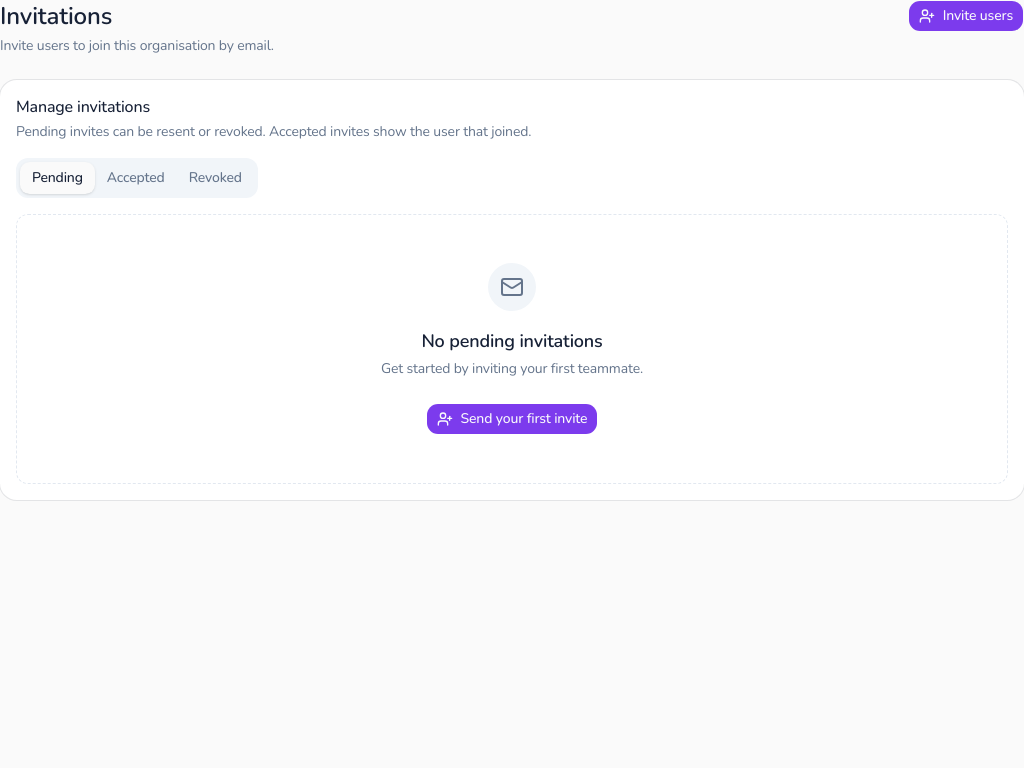
OrgInvitesClient › submit invite form — success: closes modal and refetches list
Expected: the heading "No pending invitations" is shown, [421,327,603,355]
Click the button "Invite users" at point(966, 16), box [908,0,1023,32]
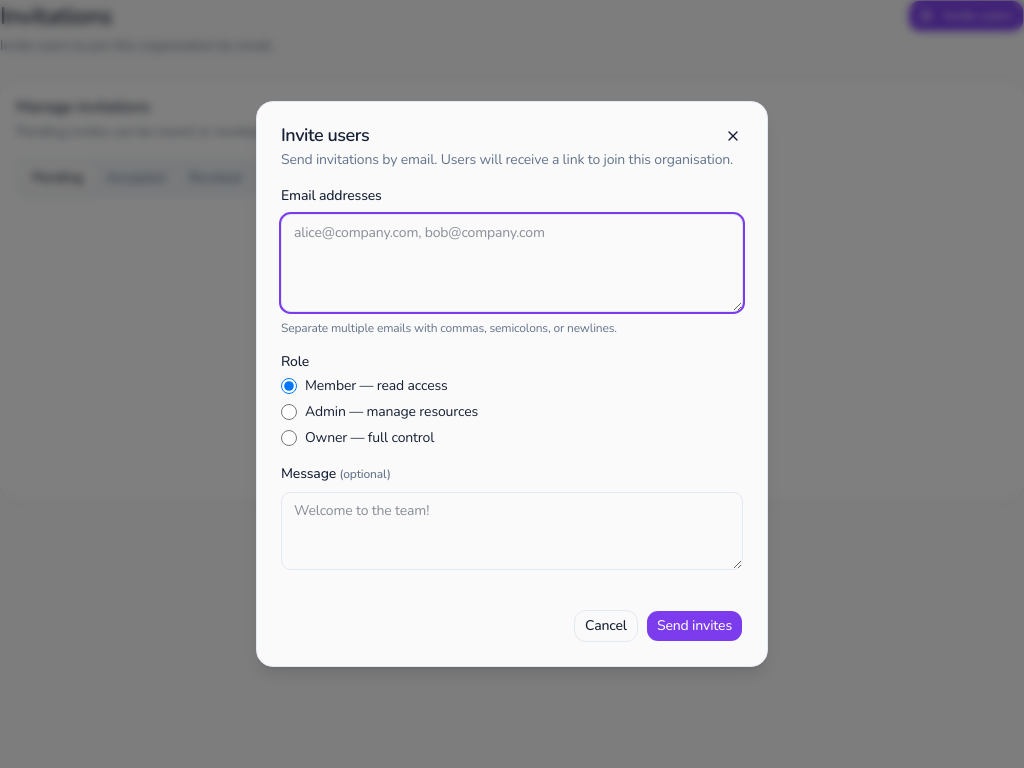
Now the dialog is shown, box [256,101,768,667]
Type "charlie@example.com" into the text box labelled "Email addresses" at point(512, 263), box [281,214,743,312]
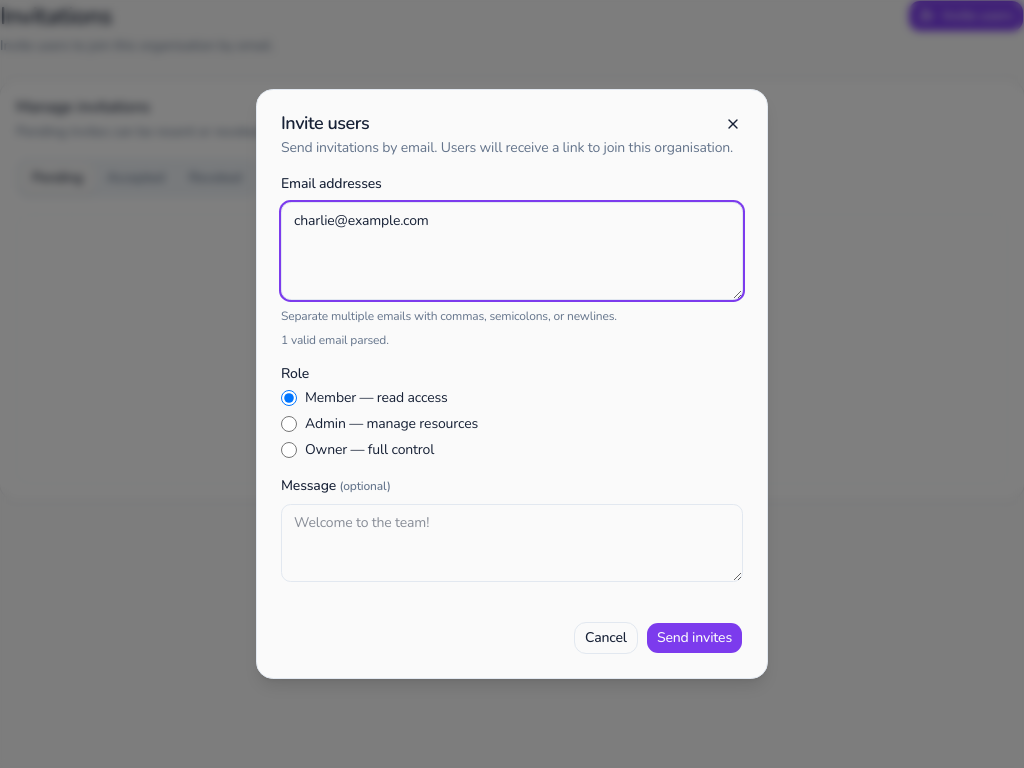
Click the button "Send invites" at point(694, 638), box [646,622,743,654]
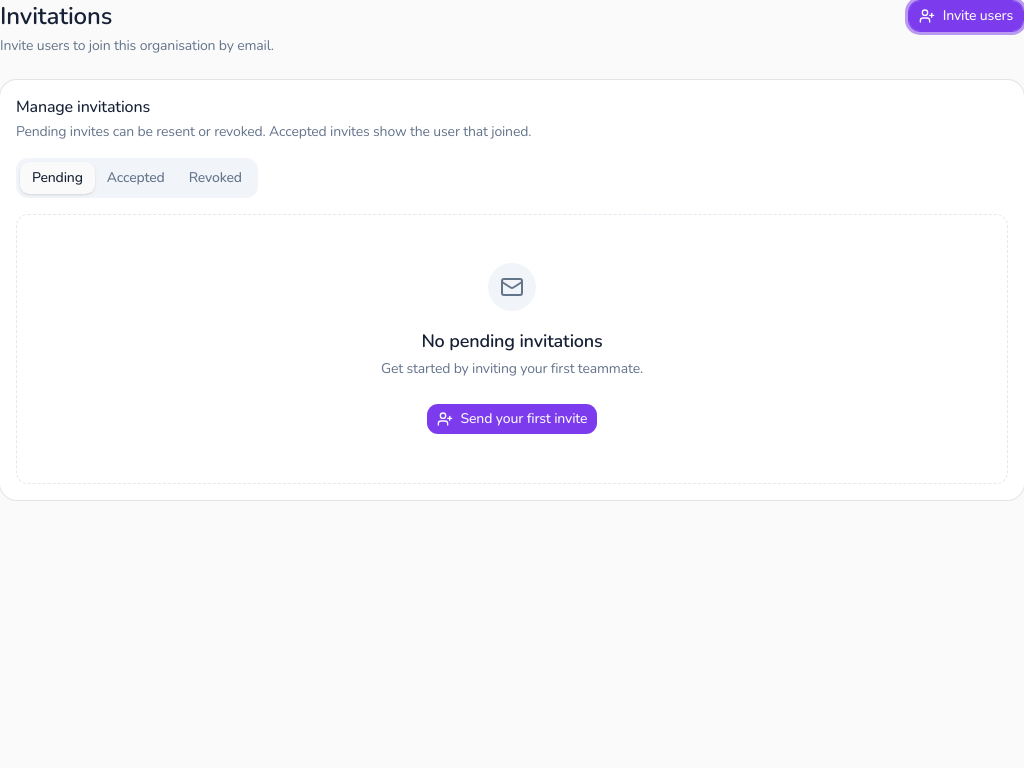
Now the dialog is gone
